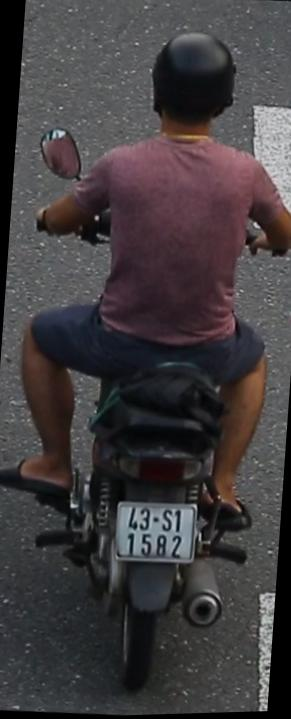LP: (109, 495, 200, 572)
helmet: (138, 24, 242, 157)
